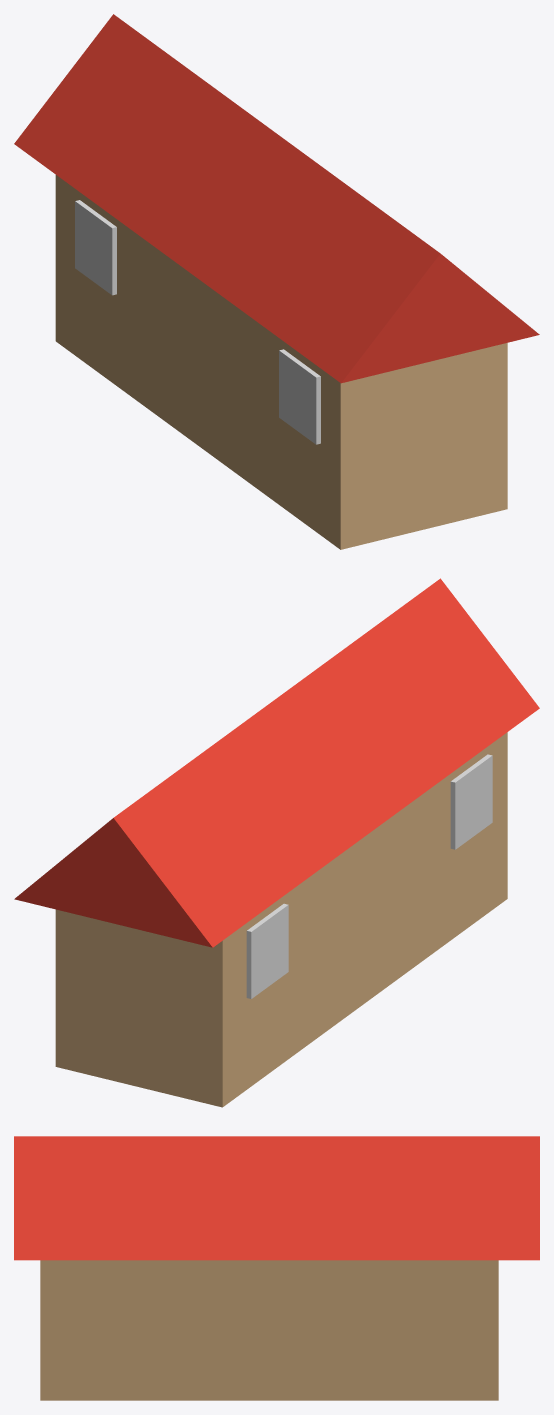
File: House_quick.fbx
The picture shows the model from 3 angles, top to bottom: view 1: azimuth 30°, elevation 25°; view 2: azimuth 150°, elevation 25°; view 3: azimuth 270°, elevation 25°; orthographic projection. The views are drawn at different scales.
Visible parts, largest first — view 1: Circle; view 2: Circle; view 3: Circle.
Boxes of the visible parts, x1,y1,x2,y2 form: Circle: (14,14,539,549); Circle: (14,578,539,1107); Circle: (14,1136,539,1400).
Bounding box in the file's own units: 619 × 857 × 1764.
